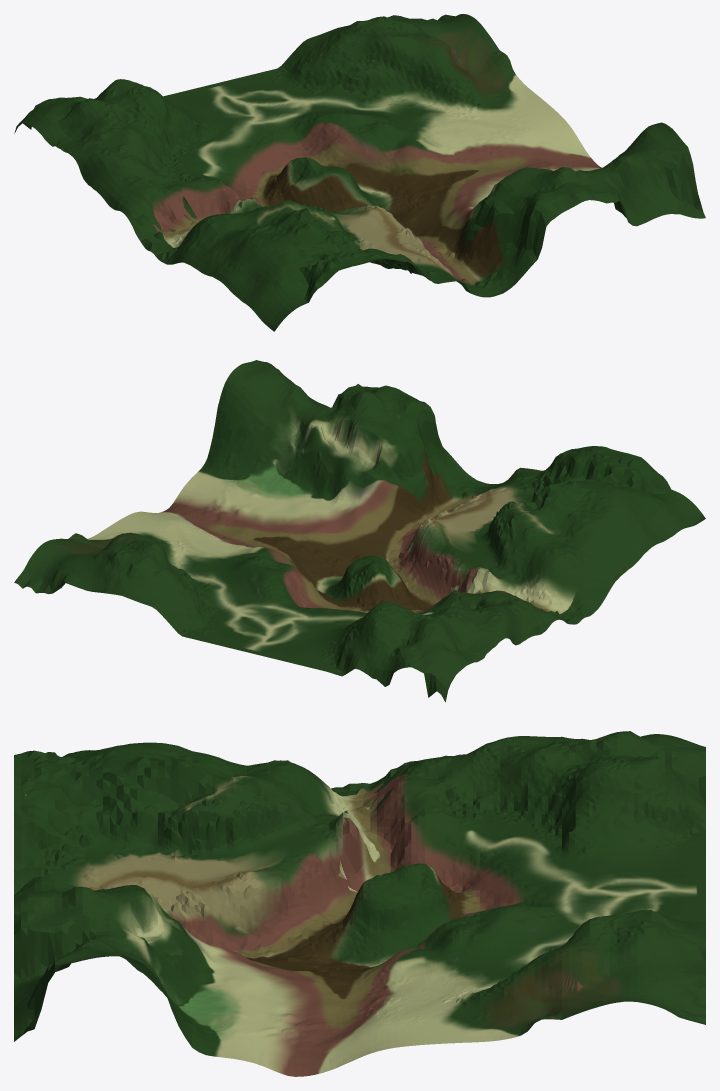
File: new_Terrain11.fbx
3 views of the same model, one above another, from view 1: azimuth 30°, elevation 25°; view 2: azimuth 150°, elevation 25°; view 3: azimuth 270°, elevation 25° (orthographic). The views are drawn at different scales.
Parts seen in each view (by area): view 1: copysT11; view 2: copysT11; view 3: copysT11.
Part boxes in pixels (box(x1,y1,x2,y2)): copysT11: box(14, 14, 705, 331); copysT11: box(14, 360, 705, 702); copysT11: box(14, 731, 705, 1076).
Bounding box in the file's own units: 31046 × 7051 × 32440.
